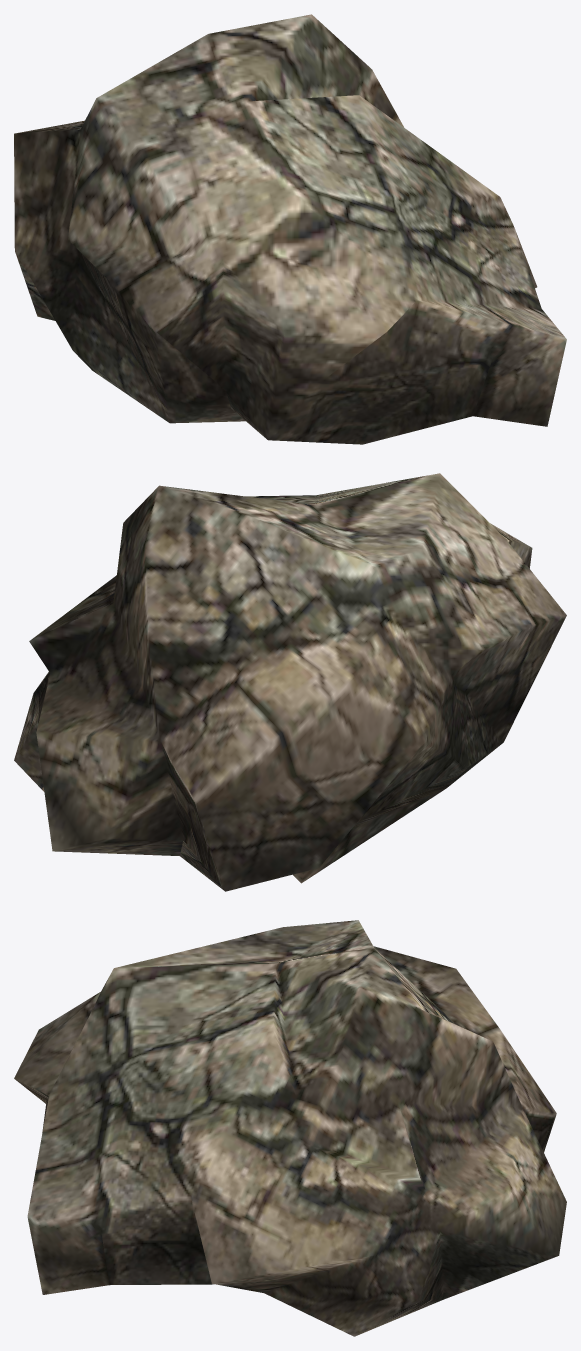
Rendered from Rock3.FBX.
3 renders of one model, top to bottom at view 1: azimuth 30°, elevation 25°; view 2: azimuth 150°, elevation 25°; view 3: azimuth 270°, elevation 25°, orthographic. The views are drawn at different scales.
Parts seen in each view (by area): view 1: Rock3_79; view 2: Rock3_79; view 3: Rock3_79.
Part boxes in pixels (bbox=[...]): Rock3_79: bbox=[14, 14, 566, 444]; Rock3_79: bbox=[14, 473, 566, 891]; Rock3_79: bbox=[14, 920, 566, 1336].
Bounding box in the file's own units: 104 × 81.1 × 125.
1 material, 1 textured.
